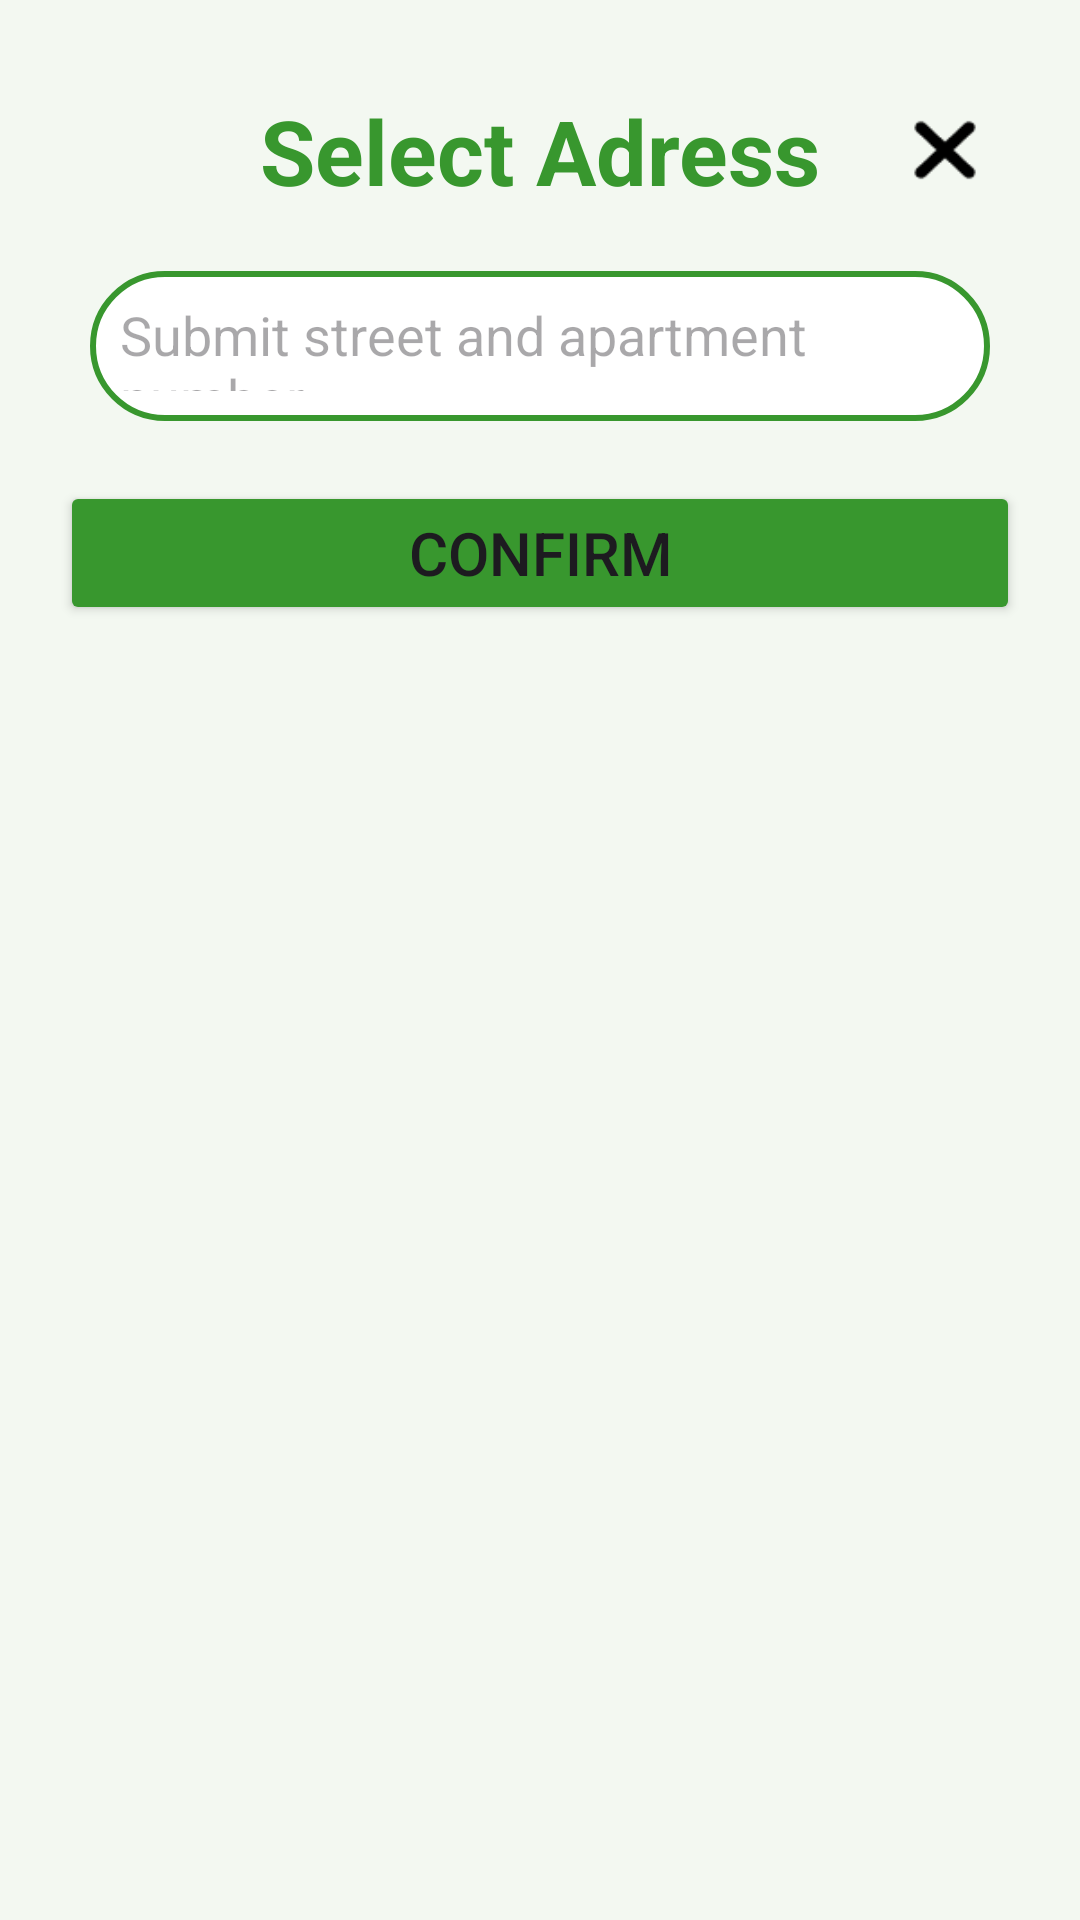

Where icons sit on this 1080 x 1920 app screen, as box(x1, y1, x2, y2):
cancel: box(914, 121, 976, 179)
